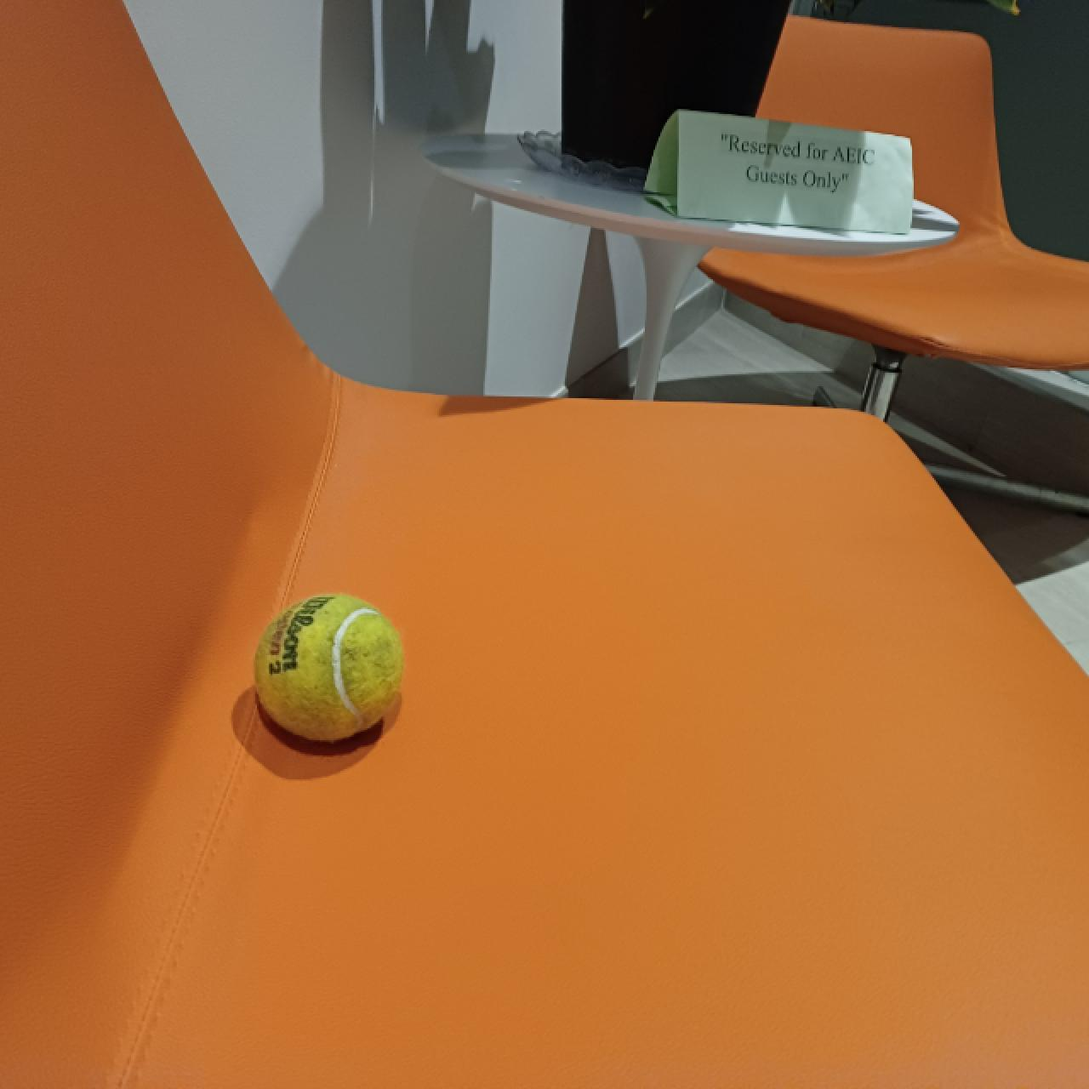tennis-ball: (255, 592, 404, 743)
